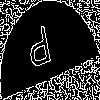P: (25, 24, 55, 78)
